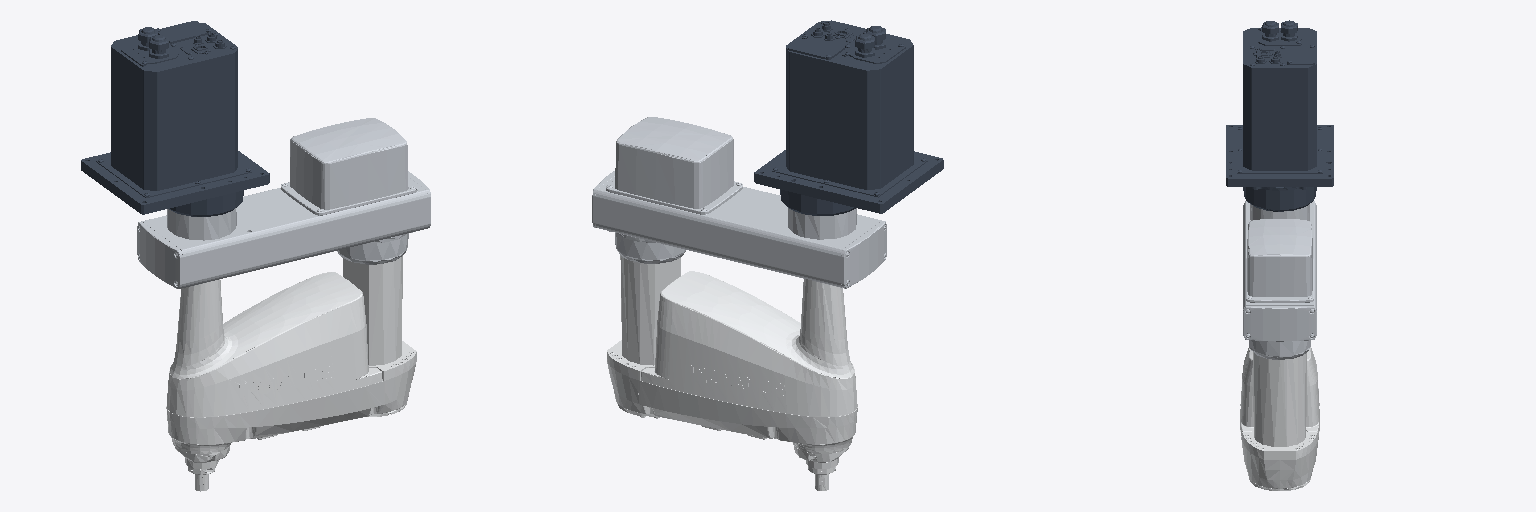
URDF robot description (IR-TS5-55Z15S3-C2LH-INT_01741007):
<?xml version="1.0"?>
<!-- Firmware source: params_package/Standard/Body/IR-TS5-55Z15S3-C2LH-INT_01741007/IR-TS5-55Z15S3-C2LH-INT_01741007.json; SHA256 12809130b85fd007e2ad5692acd09ec2ed95cecfd16627da6304aaf3dbbe9444. -->
<!-- Z-up; STL mm scaled to m. Effective firmware mass properties are SI and transformed into CAD link frames. -->
<!-- Revolute effort is nominal output torque; prismatic effort is ideal screw force. See physics-audit.json for approximations. -->
<robot name="IR-TS5-55Z15S3-C2LH-INT_01741007">
  <link name="base_link">

    <visual name="base">
      <origin xyz="0 0 0" rpy="0 0 0"/>
      <geometry>
        <mesh filename="../models/IR-TS5-55Z15/P0.stl" scale="0.001 0.001 0.001"/>
      </geometry>
      <material name="base_material">
        <color rgba="0.31 0.35 0.41 1"/>
      </material>
    </visual>
    <collision name="base_collision">
      <origin xyz="0 0 0" rpy="0 0 0"/>
      <geometry>
        <mesh filename="../models/IR-TS5-55Z15/P0.stl" scale="0.001 0.001 0.001"/>
      </geometry>
    </collision>
  </link>

  <link name="link_1">

    <!-- inertial source: bounding-box-fallback -->
    <!-- SCARA firmware contains planar inertia, not a full 3D tensor; uniform mesh-bounds approximation -->
    <inertial>
      <origin xyz="0.1335 0 0.396950012207" rpy="0 0 0"/>
      <mass value="7.3392418728"/>
      <inertia ixx="0.029626225927" ixy="0" ixz="0" iyy="0.128192855883" iyz="0" izz="0.11618081045"/>
    </inertial>

    <visual name="link_1">
      <origin xyz="0 0 0" rpy="0 0 0"/>
      <geometry>
        <mesh filename="../models/IR-TS5-55Z15/P1.stl" scale="0.001 0.001 0.001"/>
      </geometry>
      <material name="link_1_material">
        <color rgba="0.84 0.86 0.89 1"/>
      </material>
    </visual>
    <collision name="link_1_collision">
      <origin xyz="0 0 0" rpy="0 0 0"/>
      <geometry>
        <mesh filename="../models/IR-TS5-55Z15/P1.stl" scale="0.001 0.001 0.001"/>
      </geometry>
    </collision>
  </link>

  <link name="link_2">

    <!-- inertial source: bounding-box-fallback -->
    <!-- SCARA firmware contains planar inertia, not a full 3D tensor; uniform mesh-bounds approximation -->
    <inertial>
      <origin xyz="-0.134470184326 0.000028083801 0.191877731323" rpy="0 0 0"/>
      <mass value="8.5616152603"/>
      <inertia ixx="0.077794433151" ixy="0" ixz="0" iyy="0.171491451204" iyz="0" izz="0.117876076731"/>
    </inertial>

    <visual name="link_2">
      <origin xyz="-0.275 0 0" rpy="0 0 0"/>
      <geometry>
        <mesh filename="../models/IR-TS5-55Z15/P2.stl" scale="0.001 0.001 0.001"/>
      </geometry>
      <material name="link_2_material">
        <color rgba="0.94 0.95 0.96 1"/>
      </material>
    </visual>
    <collision name="link_2_collision">
      <origin xyz="-0.275 0 0" rpy="0 0 0"/>
      <geometry>
        <mesh filename="../models/IR-TS5-55Z15/P2.stl" scale="0.001 0.001 0.001"/>
      </geometry>
    </collision>
  </link>

  <link name="link_3">

    <!-- inertial source: bounding-box-fallback -->
    <!-- SCARA firmware contains planar inertia, not a full 3D tensor; uniform mesh-bounds approximation -->
    <inertial>
      <origin xyz="-0.000001897812 -0.000103839874 0.1655" rpy="0 0 0"/>
      <mass value="0.8076148419"/>
      <inertia ixx="0.007482160608" ixy="0" ixz="0" iyy="0.007481243767" iyz="0" izz="0.00021622276"/>
    </inertial>
  </link>

  <link name="link_4">

    <!-- inertial source: bounding-box-fallback -->
    <!-- SCARA firmware contains planar inertia, not a full 3D tensor; uniform mesh-bounds approximation -->
    <inertial>
      <origin xyz="-0.000001897812 -0.000103839874 0.1655" rpy="0 0 0"/>
      <mass value="0.8076148419"/>
      <inertia ixx="0.007482160608" ixy="0" ixz="0" iyy="0.007481243767" iyz="0" izz="0.00021622276"/>
    </inertial>

    <visual name="link_4">
      <origin xyz="0 0 0" rpy="0 0 0"/>
      <geometry>
        <mesh filename="../models/IR-TS5-55Z15/P4.stl" scale="0.001 0.001 0.001"/>
      </geometry>
      <material name="link_4_material">
        <color rgba="0.94 0.95 0.96 1"/>
      </material>
    </visual>
    <collision name="link_4_collision">
      <origin xyz="0 0 0" rpy="0 0 0"/>
      <geometry>
        <mesh filename="../models/IR-TS5-55Z15/P4.stl" scale="0.001 0.001 0.001"/>
      </geometry>
    </collision>
  </link>

  <joint name="J1" type="revolute">
    <parent link="base_link"/>
    <child link="link_1"/>
    <origin xyz="0 0 0" rpy="0 0 0"/>
    <axis xyz="0 0 1"/>
    <limit lower="-3.926990816987" upper="3.926990816987" effort="87.5" velocity="11.498229112139"/>
  </joint>

  <joint name="J2" type="revolute">
    <parent link="link_1"/>
    <child link="link_2"/>
    <origin xyz="0.275 0 0" rpy="0 0 0"/>
    <axis xyz="0 0 1"/>
    <limit lower="-3.926990816987" upper="3.926990816987" effort="63.5" velocity="12.320279189828"/>
  </joint>

  <joint name="J3" type="prismatic">
    <parent link="link_2"/>
    <child link="link_3"/>
    <origin xyz="-0.275 0 0" rpy="0 0 0"/>
    <axis xyz="0 0 1"/>
    <limit lower="-0.15" upper="0.00125" effort="191.254030809616" velocity="1.606361111111"/> <!-- ideal screw force: 2*pi*ratedTrq*abs(ratio)/lead_m; efficiency=1 -->
  </joint>

  <joint name="J4" type="revolute">
    <parent link="link_3"/>
    <child link="link_4"/>
    <origin xyz="0 0 0" rpy="0 0 0"/>
    <axis xyz="0 0 1"/>
    <limit lower="-12.566370614359" upper="12.566370614359" effort="5.847272727264" velocity="34.906585039887"/>
  </joint>

  <link name="tool0"/>
  <joint name="tool0_fixed" type="fixed">
    <parent link="link_4"/>
    <child link="tool0"/>
    <origin xyz="0 0 0" rpy="0 0 3.14159265359"/>
  </joint>
</robot>

--- Facts derived from the render (not from the file) ---
3 views of the same robot in one strip: view 1: azimuth 30°, elevation 25°; view 2: azimuth 150°, elevation 25°; view 3: azimuth 270°, elevation 25° (orthographic).
Model IR-TS5-55Z15S3-C2LH-INT_01741007 with 6 links and 5 joints (3 revolute, 1 prismatic, 1 fixed), rooted at base_link, posed every joint at zero.
Links seen in each view (by area): view 1: link_2, link_1, base_link; view 2: link_2, link_1, base_link; view 3: base_link, link_1, link_2.
Boxes of the visible links, box(x1,y1,x2,y2) form: link_2: box(166, 256, 416, 468); link_1: box(137, 118, 430, 288); base_link: box(81, 21, 269, 216); link_2: box(607, 255, 857, 468); link_1: box(592, 117, 886, 288); base_link: box(754, 20, 943, 215); base_link: box(1226, 20, 1333, 211); link_1: box(1243, 201, 1316, 359); link_2: box(1240, 347, 1319, 490).
Size in the robot's own frame: 0.49 by 0.175 by 0.7239 metres.
Meshes: 4 distinct files referenced, 4 mesh visuals loaded (4 binary STL).
